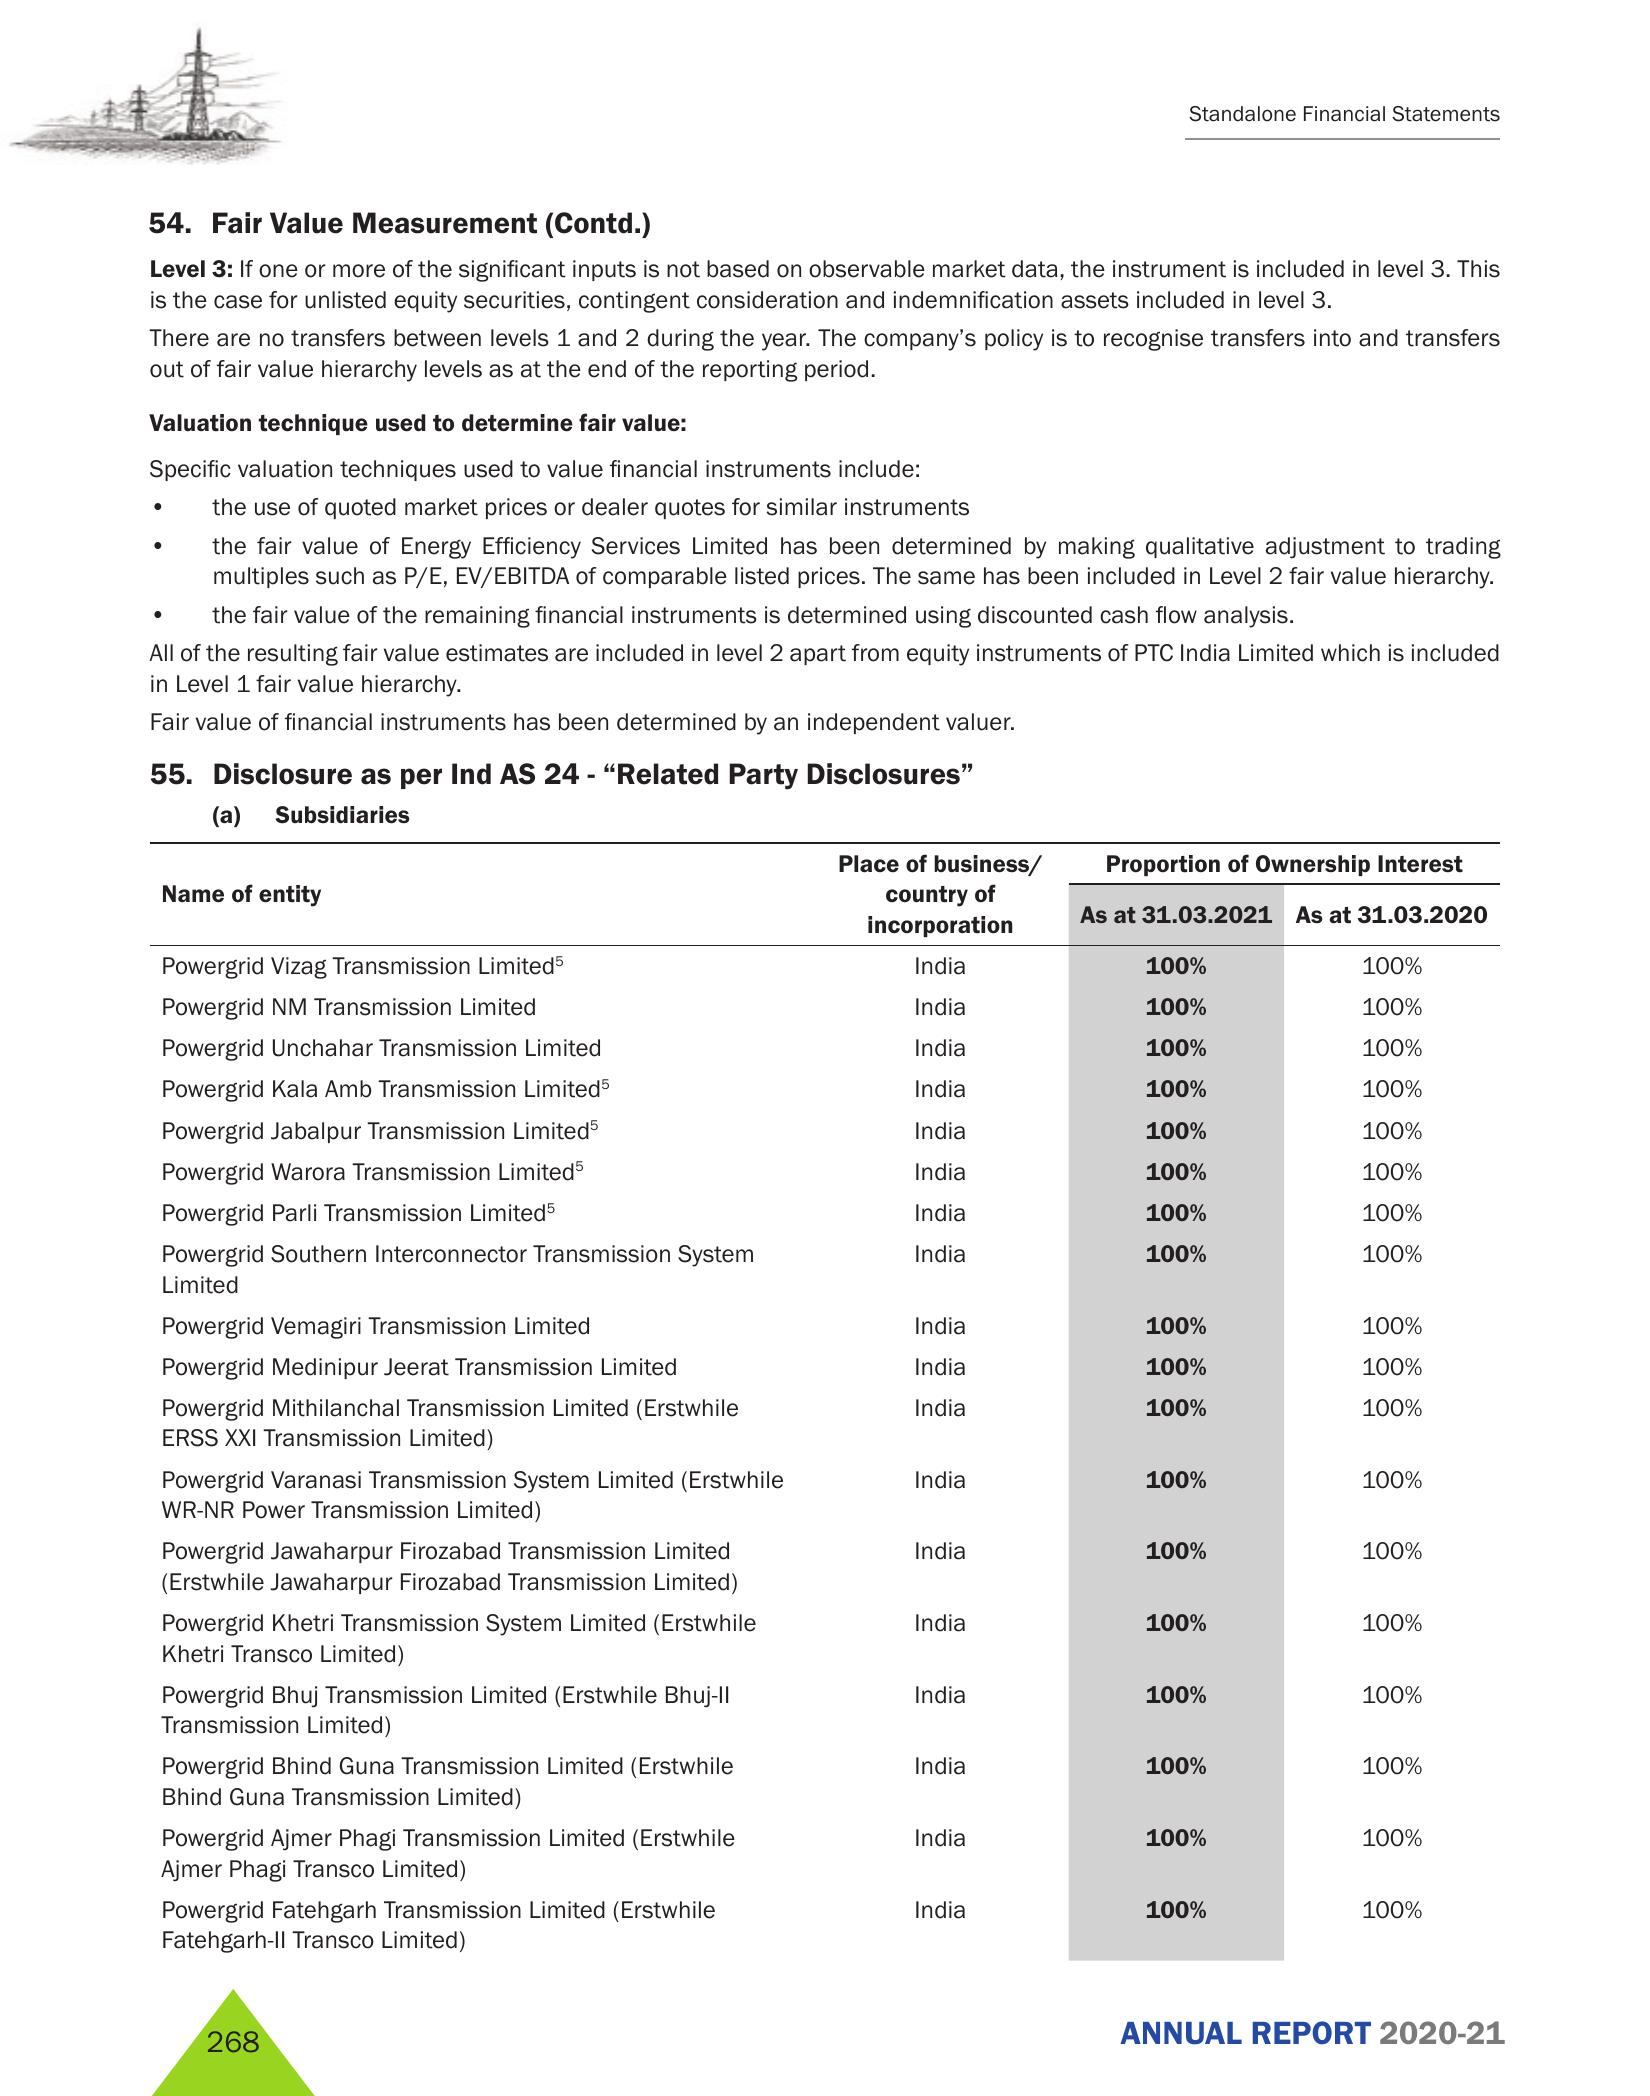Footer: (0, 1974, 1650, 2096)
Header: (0, 0, 1650, 175)
Table: (102, 839, 1539, 1968)
